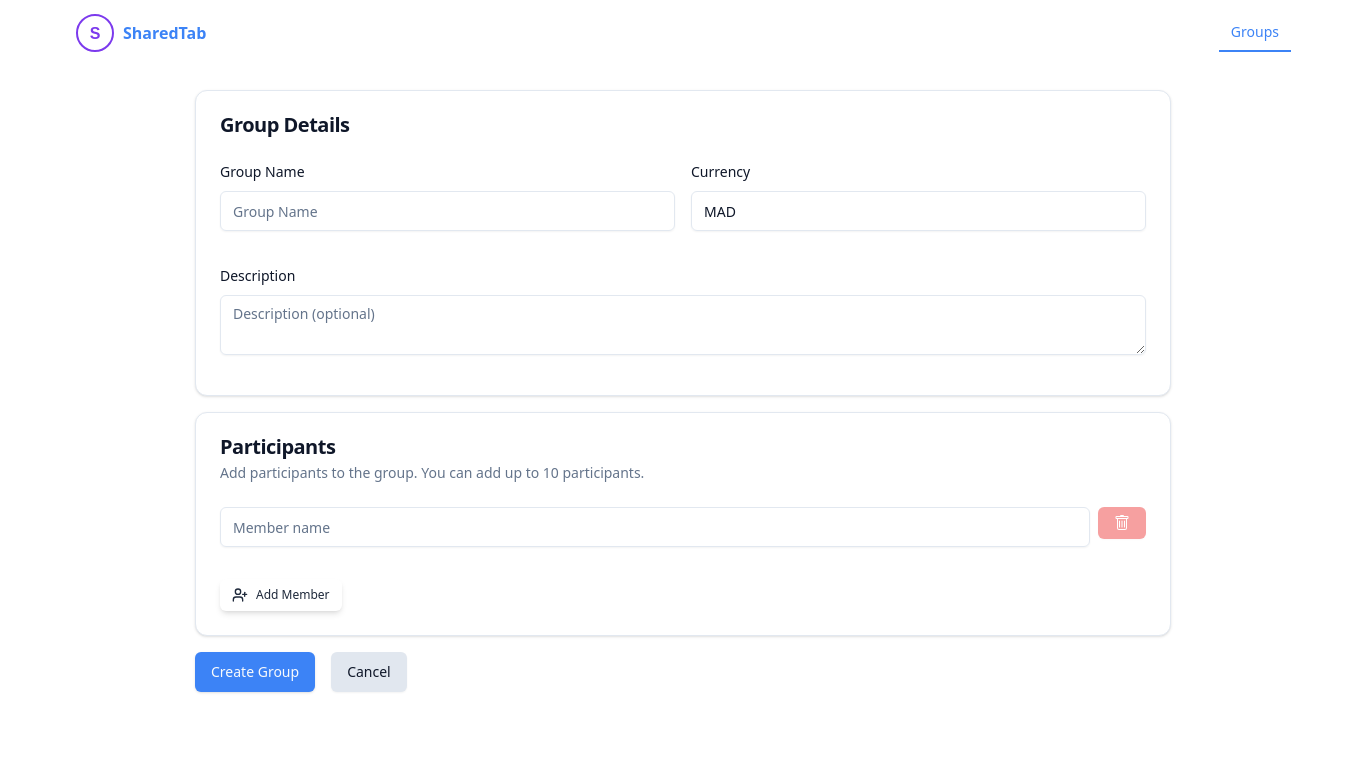
Create Group Page › shows validation errors for empty required fields
This screenshot has width=1366, height=759.
Note: Try submitting with empty fields
Click the button "Create Group": [255, 672] box [195,652,315,692]
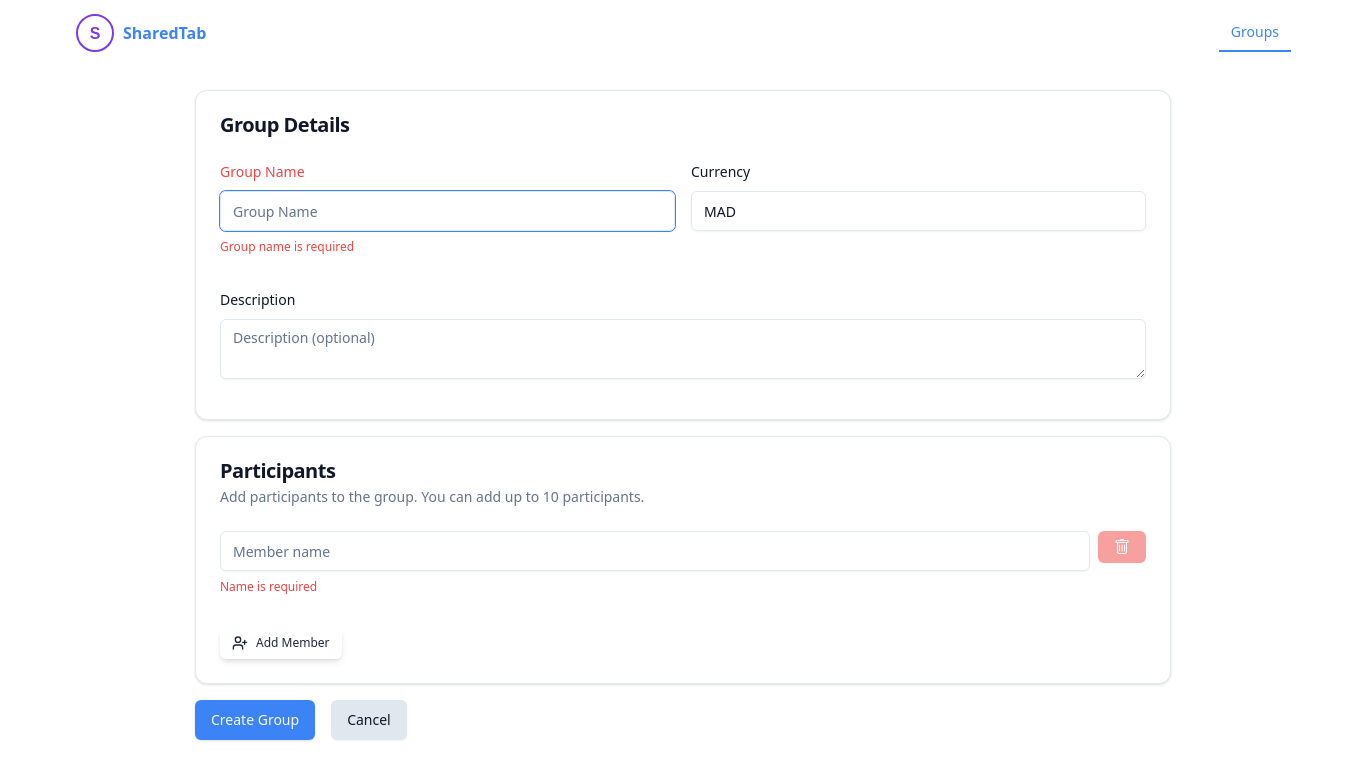
Check: the text "Group name is required" is shown, box [220,238,354,255]
Check: the text "Name is required" is shown, box [220,578,317,595]
